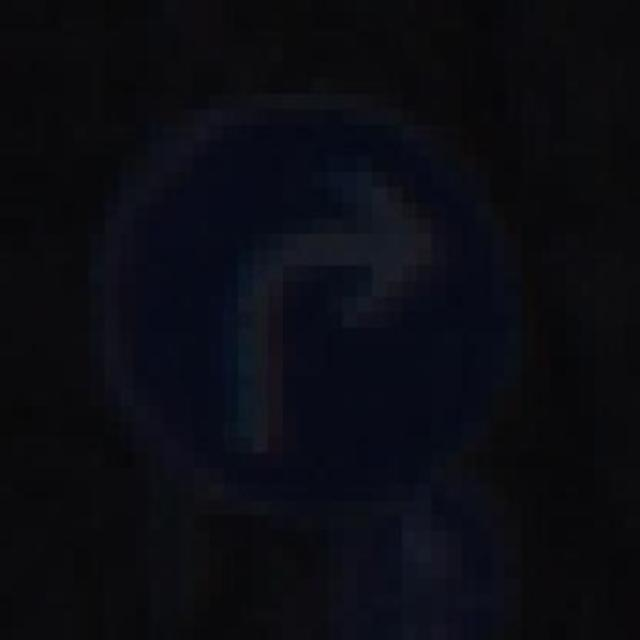Turn right ahead: (75, 78, 536, 499)
